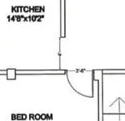door: (63, 66, 96, 101)
